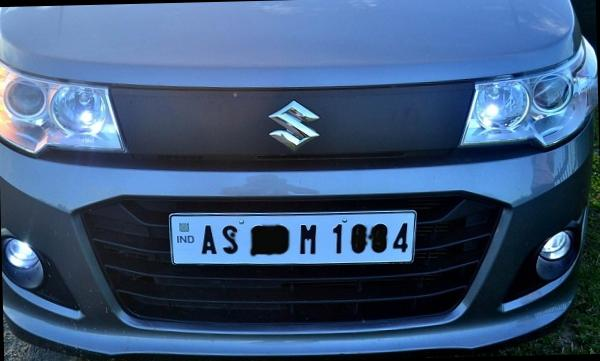plate: (162, 194, 433, 281)
